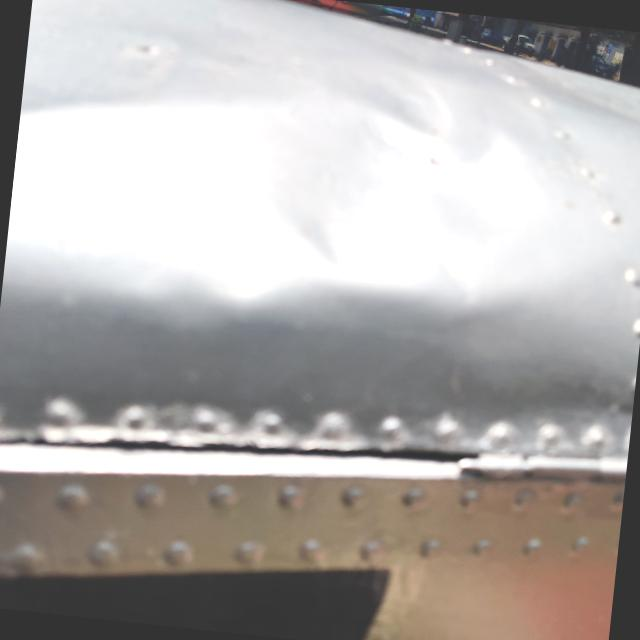dent: (238, 154, 417, 305)
